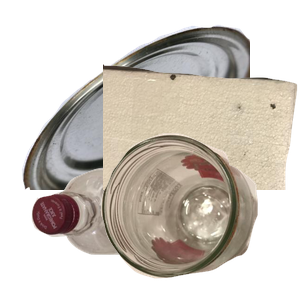glass: (98, 131, 300, 300)
metal: (19, 22, 259, 202)
plastic: (29, 166, 183, 300)
trash: (103, 62, 300, 242)
